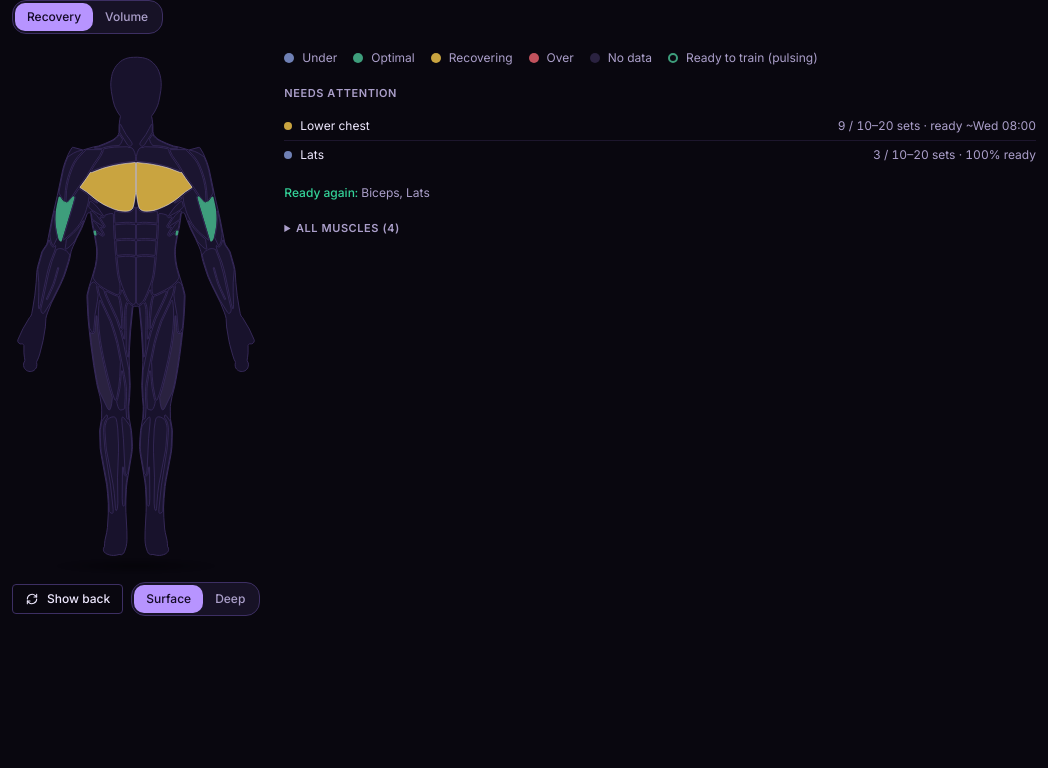
MuscleMap › recolours by volume for the chosen range
Click the radio button labelled "Volume".
click(127, 16)  # box [105,9,148,24]
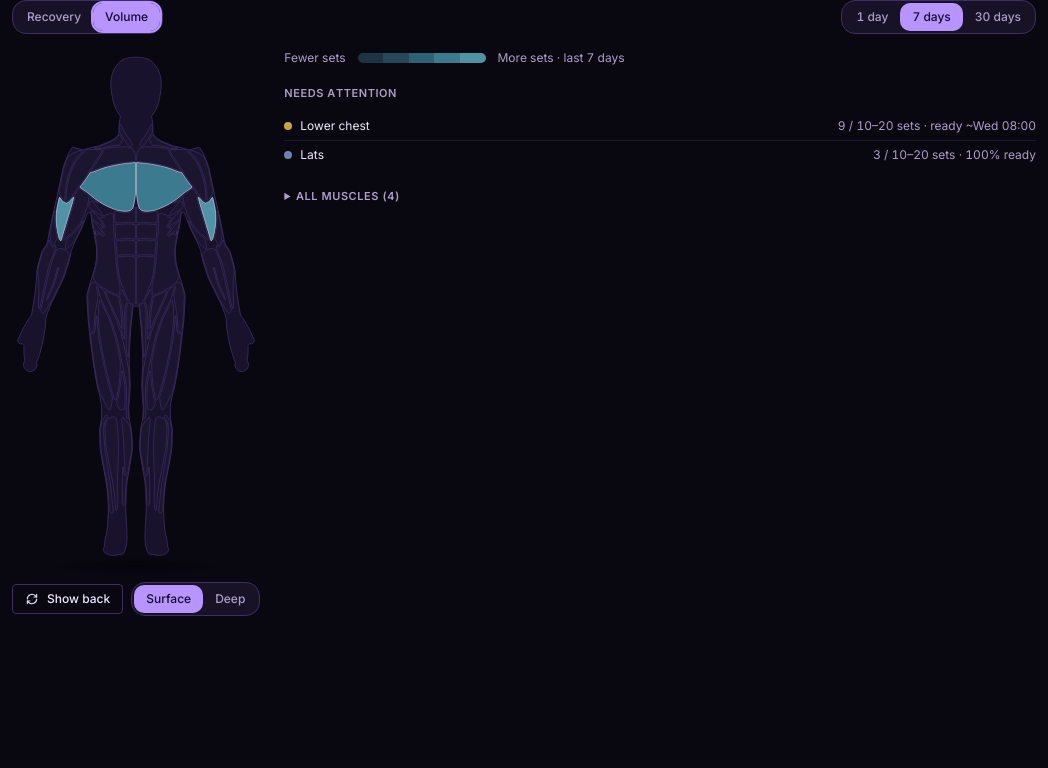
Click the radio button labelled "30 days".
click(998, 16)  # box [975,9,1021,24]
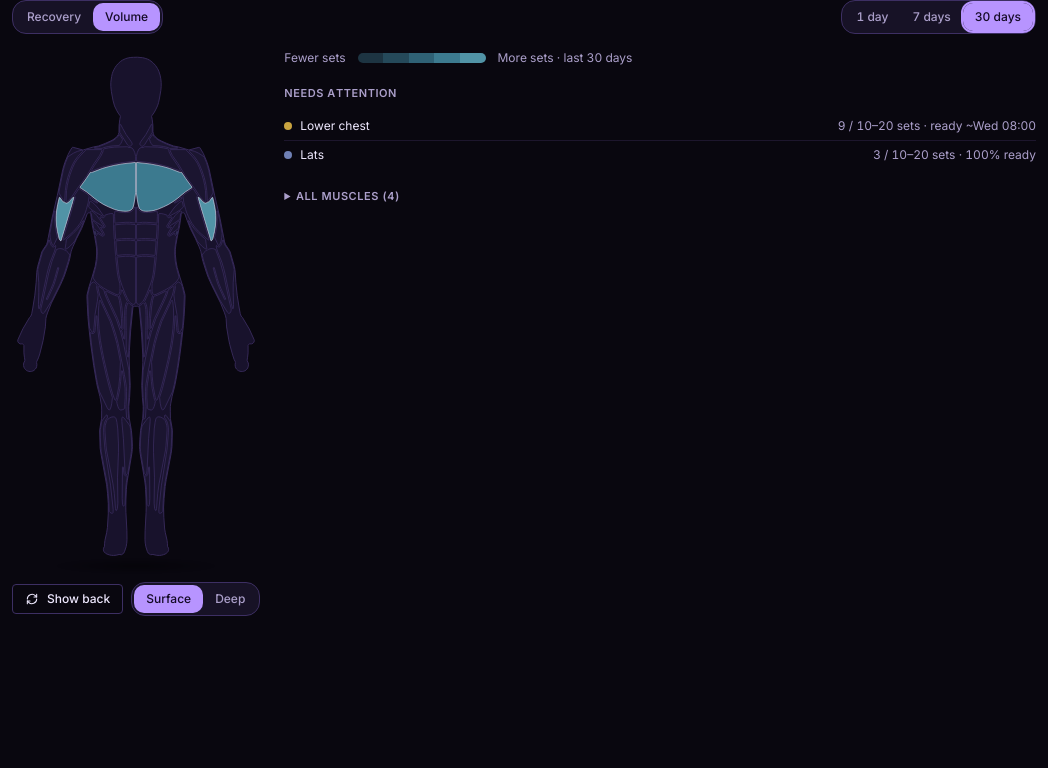
Now the text "More sets · last 30 days" is shown, box [498,50,632,66]
